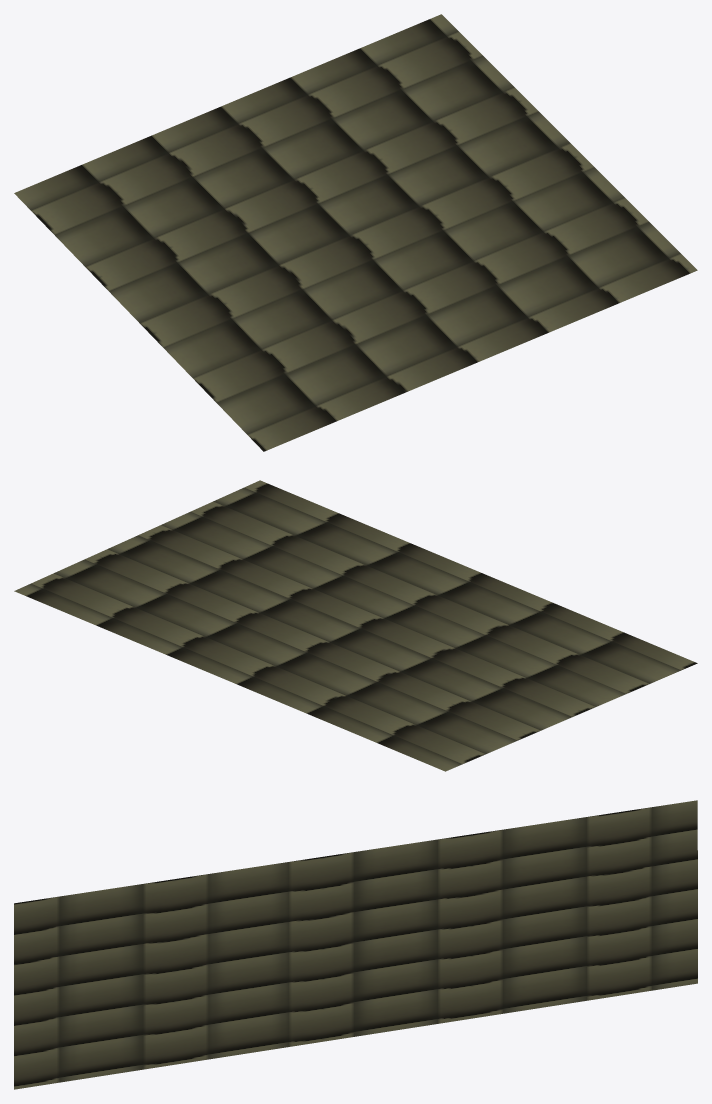
The model's file is NNJ0510070.fbx.
3 renders of one model, top to bottom at view 1: azimuth 30°, elevation 25°; view 2: azimuth 150°, elevation 25°; view 3: azimuth 270°, elevation 25°, orthographic. The views are drawn at different scales.
Visible parts, largest first — view 1: smNNJ0510070; view 2: smNNJ0510070; view 3: smNNJ0510070.
Boxes of the visible parts, box(x1,y1,x2,y2) form: smNNJ0510070: box(14, 14, 697, 451); smNNJ0510070: box(14, 480, 697, 771); smNNJ0510070: box(14, 800, 697, 1089).
Bounding box in the file's own units: 276 × 91.39 × 276.
Materials: 1 (1 with a texture image).
